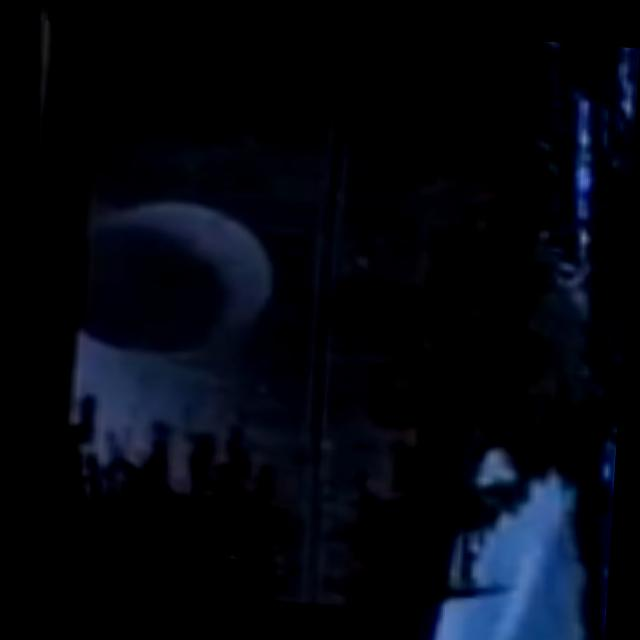deathStar: (63, 77, 567, 611)
